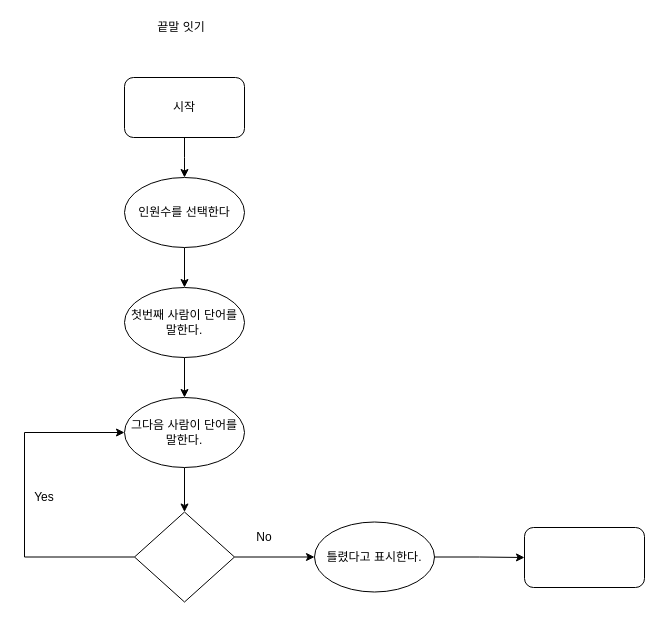
Some shapes in this 662 by 619 pixel diagram are drawn without their labels. The shapes that lost their labels are listed below. From the top down, each one's centre as x and y in pixels, then its label:
the point at 184,556: 단어가 올바른가?
the point at 584,557: 게임 끝
